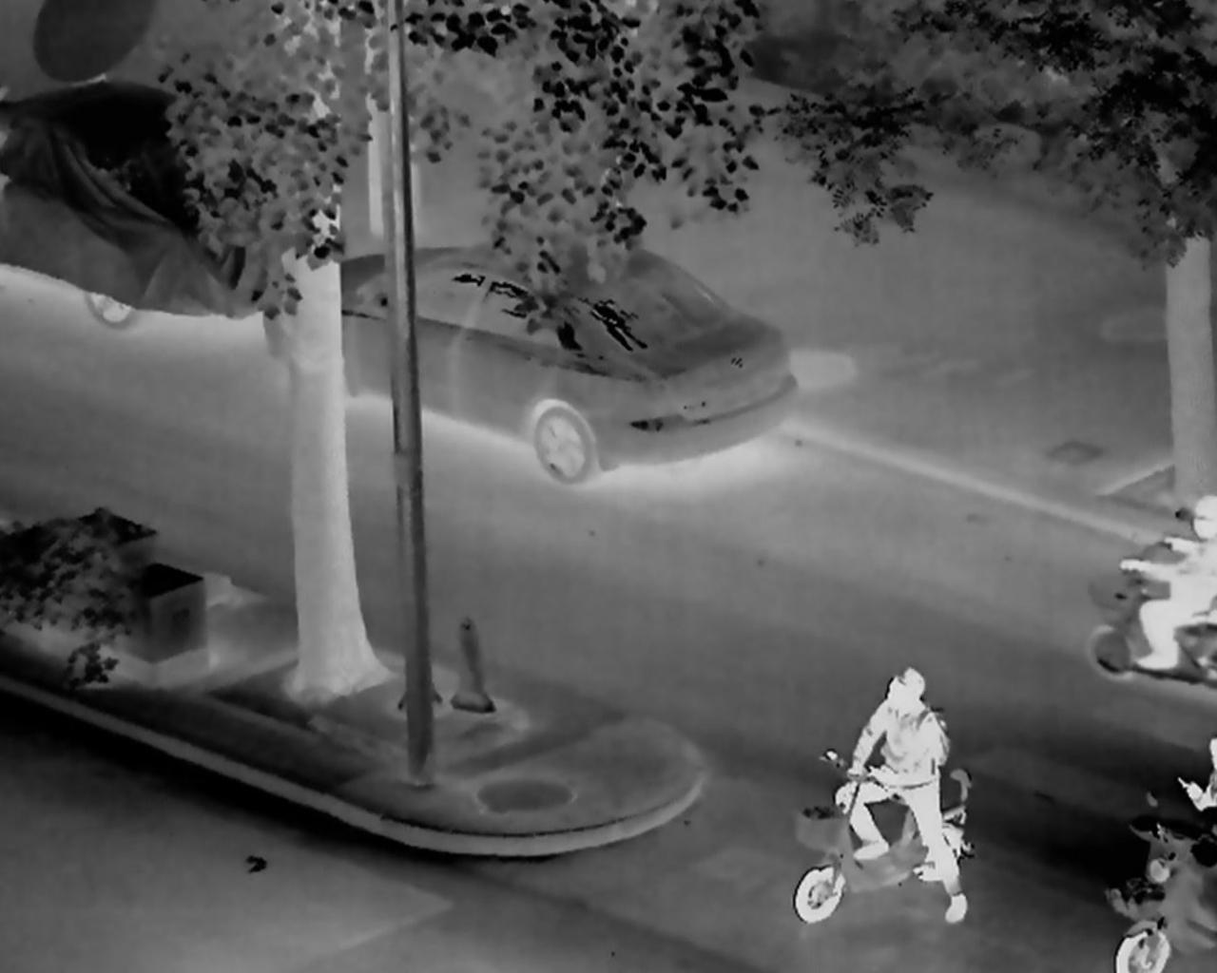person: (834, 666, 971, 922), (1125, 492, 1217, 668), (1175, 725, 1217, 829)
